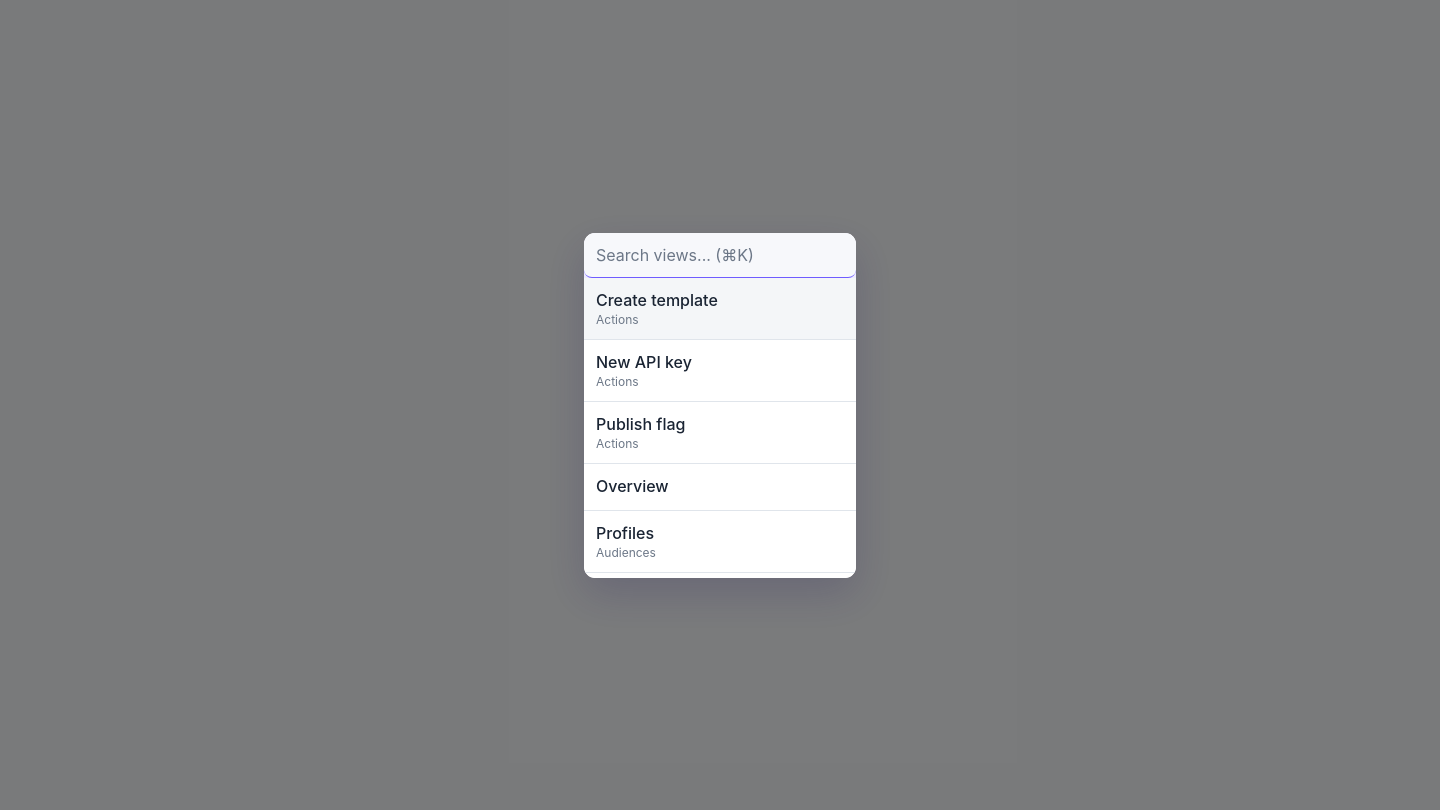
Test: CommandPalette › filters items based on query
Step 1. Type "campaign" into the field with placeholder "Search views... (⌘K)" → (720, 255), box 584,232 -> 856,278
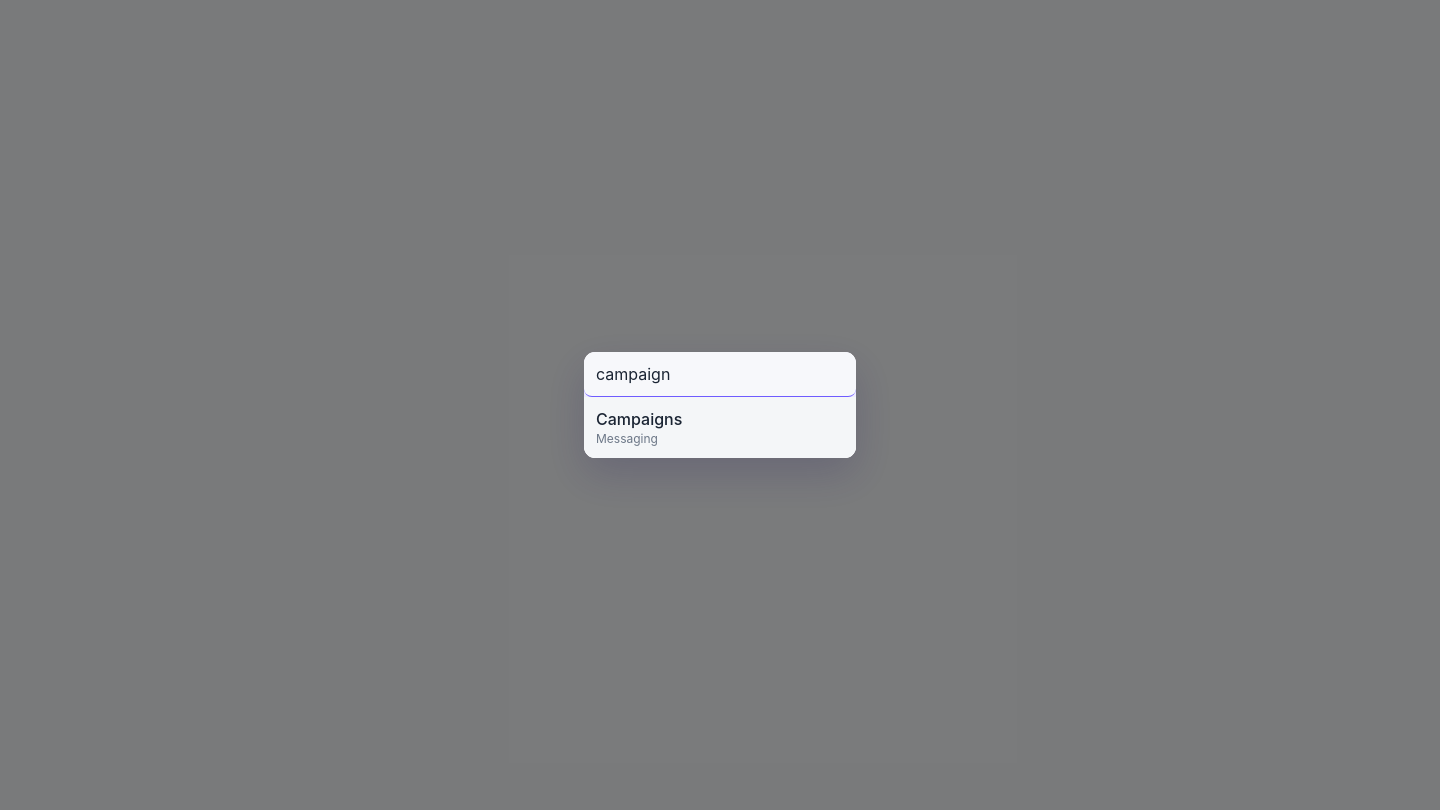
expect the text "Campaigns" is shown: met, box 596,409 -> 682,429
expect the option "Profiles" is gone: met
